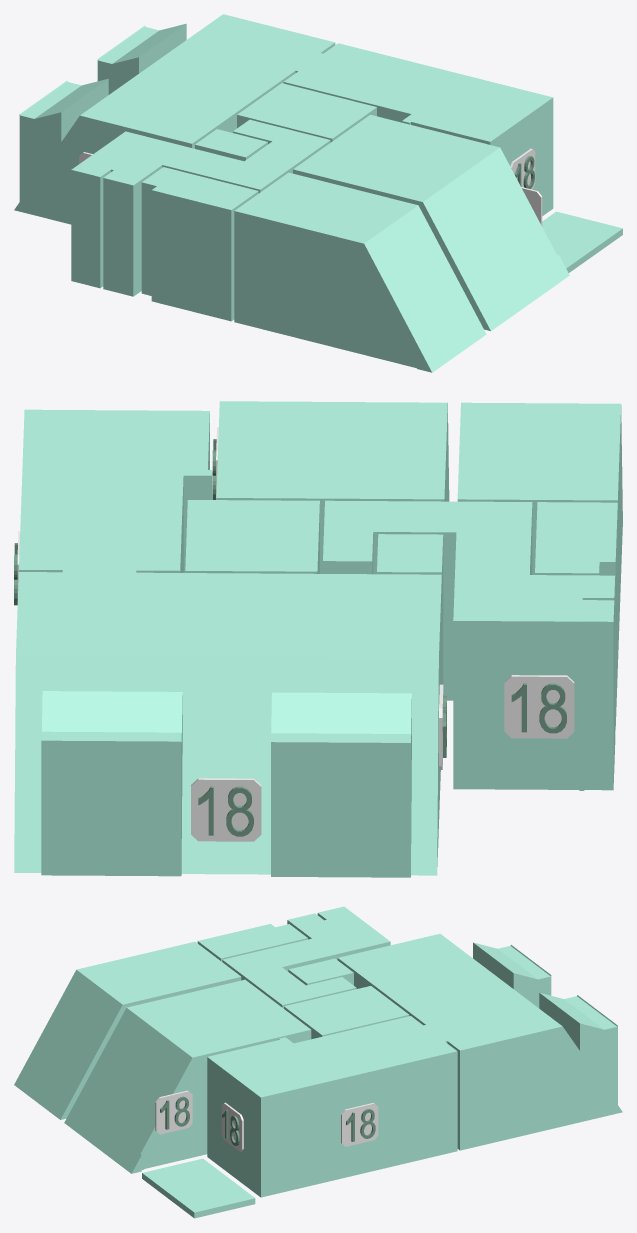
3 renders of one model, top to bottom at view 1: azimuth 30°, elevation 25°; view 2: azimuth 150°, elevation 25°; view 3: azimuth 270°, elevation 25°, orthographic. The views are drawn at different scales.
Visible parts, largest first — view 1: g_3, g_0, g_2, g_5, g_1, g_7, g_4, g_8, g_6; view 2: g_0, g_5, g_1, g_2, g_3, g_4, g_7, g_17, g_14, g_6, g_13, g_16; view 3: g_0, g_1, g_2, g_3, g_5, g_8, g_4, g_7, g_6, g_11, g_20, g_26.
Part boxes in pixels (<box>): g_3: <box>234,172,486,372</box>; g_0: <box>14,14,335,224</box>; g_2: <box>293,114,569,330</box>; g_5: <box>71,119,330,296</box>; g_1: <box>283,43,553,215</box>; g_7: <box>141,167,258,321</box>; g_4: <box>237,83,376,142</box>; g_8: <box>542,211,622,272</box>; g_6: <box>195,129,267,161</box>; g_0: <box>14,571,441,877</box>; g_5: <box>323,500,615,790</box>; g_1: <box>19,409,212,572</box>; g_2: <box>216,401,449,573</box>; g_3: <box>457,402,622,668</box>; g_4: <box>185,500,319,573</box>; g_7: <box>535,502,617,729</box>; g_17: <box>191,778,261,841</box>; g_14: <box>504,675,574,738</box>; g_6: <box>377,534,443,684</box>; g_13: <box>539,683,566,733</box>; g_16: <box>226,786,253,836</box>; g_0: <box>337,933,622,1150</box>; g_1: <box>207,1016,457,1197</box>; g_2: <box>64,979,311,1173</box>; g_3: <box>14,941,241,1119</box>; g_5: <box>222,906,390,1008</box>; g_8: <box>142,1158,255,1218</box>; g_4: <box>284,986,409,1039</box>; g_7: <box>197,924,307,961</box>; g_6: <box>288,958,353,985</box>; g_11: <box>341,1103,378,1146</box>; g_20: <box>155,1090,192,1134</box>; g_26: <box>221,1102,243,1151</box>.
Size of the model in its own units: 11.21 by 2.71 by 14.04.
